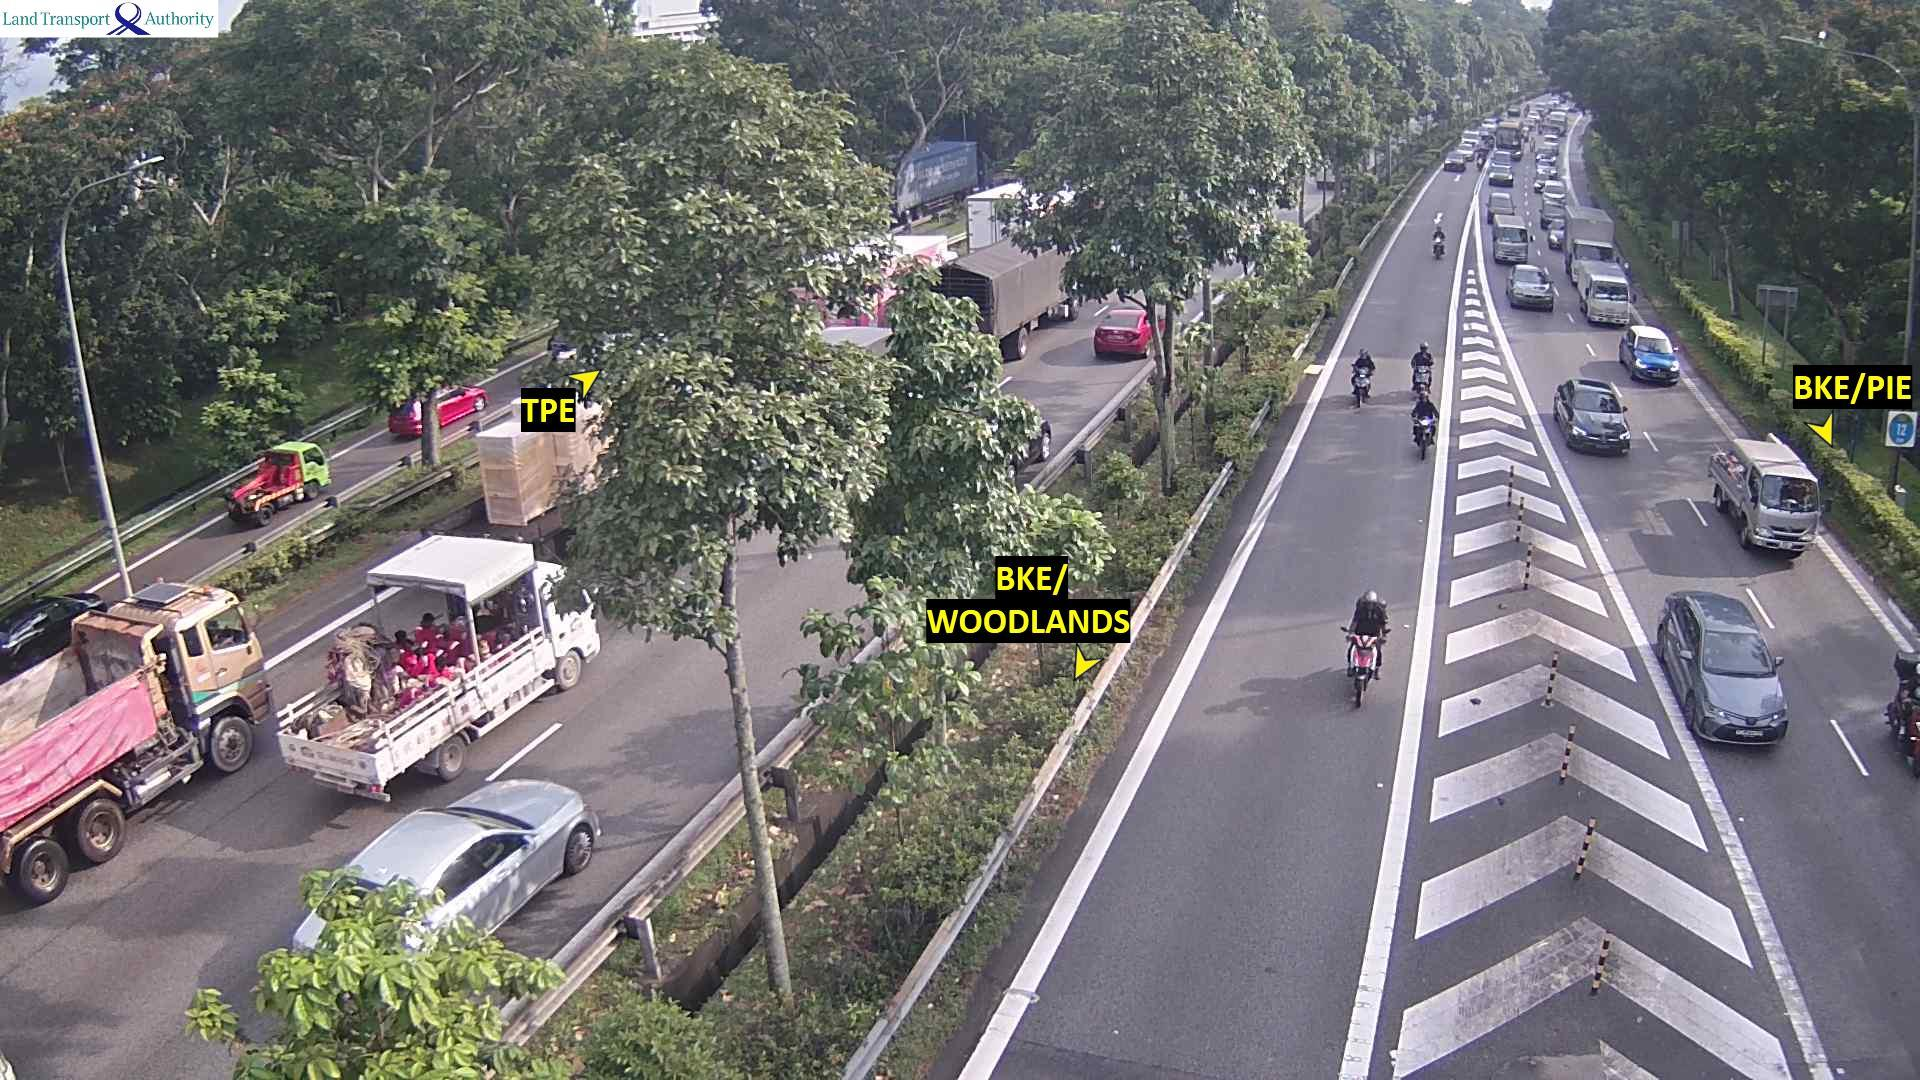cars: (290, 775, 601, 963), (1656, 589, 1788, 746), (1706, 434, 1821, 554), (0, 589, 108, 679), (224, 439, 331, 525), (1551, 375, 1631, 455), (386, 382, 487, 439), (546, 326, 665, 365), (988, 397, 1051, 467), (1573, 258, 1633, 326), (1618, 324, 1680, 384), (1091, 305, 1153, 359), (1505, 262, 1557, 310), (1563, 237, 1619, 281), (1490, 220, 1531, 264), (547, 328, 578, 363), (1485, 190, 1515, 219), (1538, 199, 1565, 229), (1540, 177, 1567, 204), (1547, 218, 1567, 249), (1487, 161, 1514, 185), (1441, 150, 1465, 171), (1540, 158, 1561, 173)
motorcycle: (1883, 650, 1919, 775), (1338, 622, 1389, 708), (1410, 411, 1437, 460), (1350, 367, 1373, 409), (1411, 363, 1432, 396), (1431, 229, 1447, 260)
trucks: (0, 576, 276, 905), (274, 531, 601, 803), (945, 251, 1084, 311)
